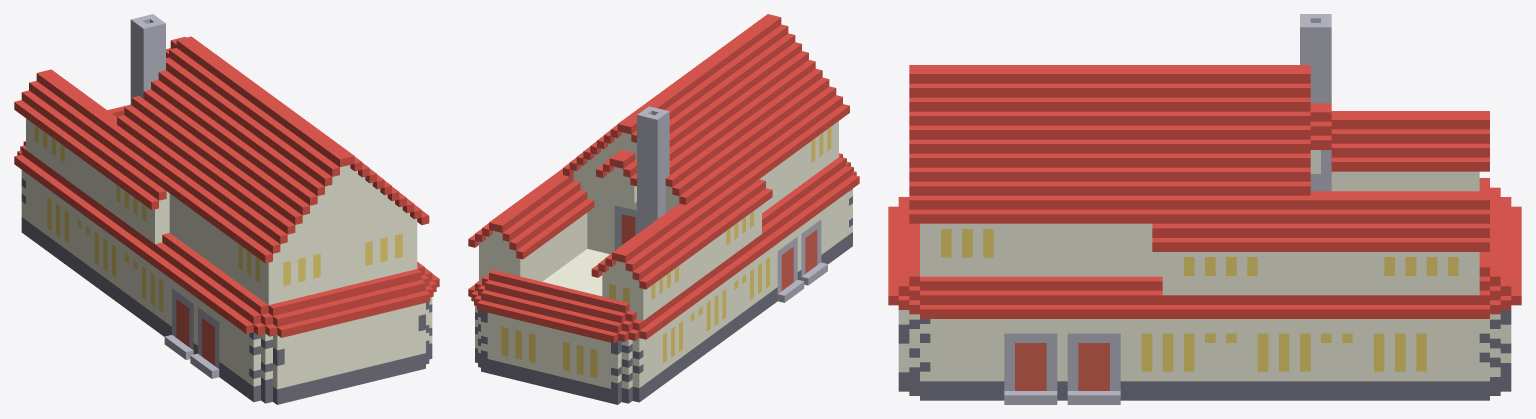
File: Casa7.glb
The picture shows the model from 3 angles, left to right: view 1: azimuth 30°, elevation 25°; view 2: azimuth 150°, elevation 25°; view 3: azimuth 270°, elevation 25°; orthographic projection. The views are drawn at different scales.
Visible parts, largest first — view 1: Build- 1; view 2: Build- 1; view 3: Build- 1.
Part boxes in pixels (x1,y1,x2,y2): Build- 1: (14,14,439,404); Build- 1: (468,14,859,404); Build- 1: (888,14,1521,404).
Size of the model in its own units: 2.6 by 3.2 by 6.
Materials: 1 (1 with a texture image).
